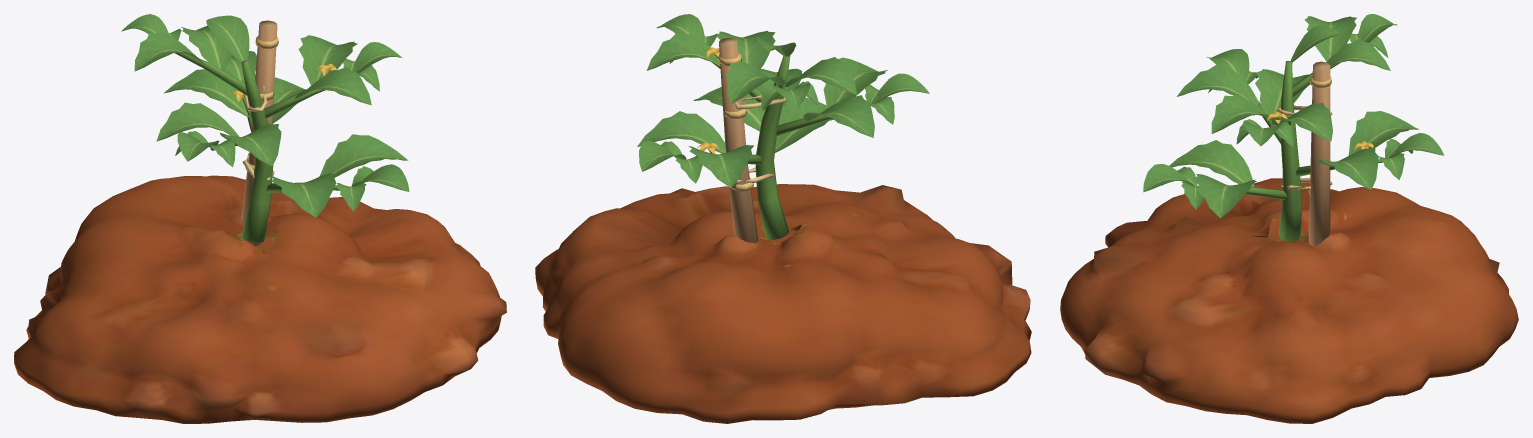
3 renders of one model, left to right at view 1: azimuth 30°, elevation 25°; view 2: azimuth 150°, elevation 25°; view 3: azimuth 270°, elevation 25°, orthographic. The views are drawn at different scales.
Parts seen in each view (by area): view 1: tomato-growing; view 2: tomato-growing; view 3: tomato-growing.
Part boxes in pixels (x1,y1,x2,y2): tomato-growing: (14,14,506,423); tomato-growing: (535,14,1031,423); tomato-growing: (1060,14,1518,423).
Bounding box in the file's own units: 0.7926 × 0.502 × 0.7345.
1 material, 1 textured.
